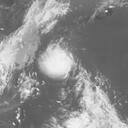cyclone: (39, 44, 77, 82)
